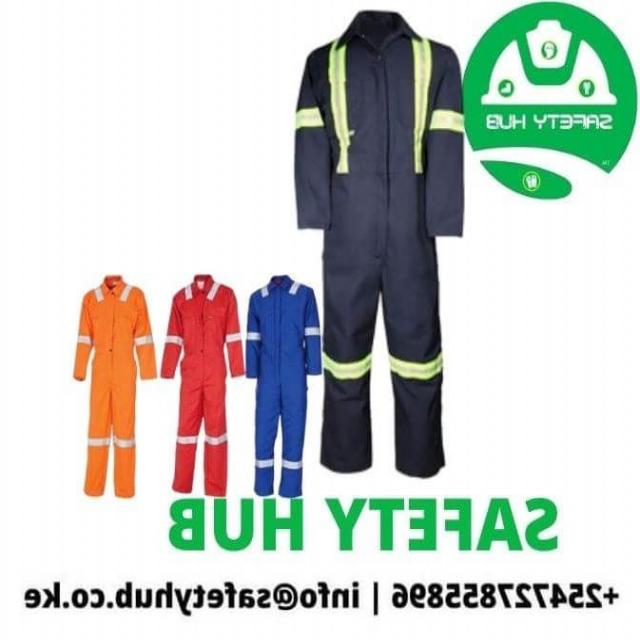Reflective-Jacket: (283, 10, 472, 192), (246, 281, 326, 389), (164, 277, 243, 382), (80, 282, 157, 385)
